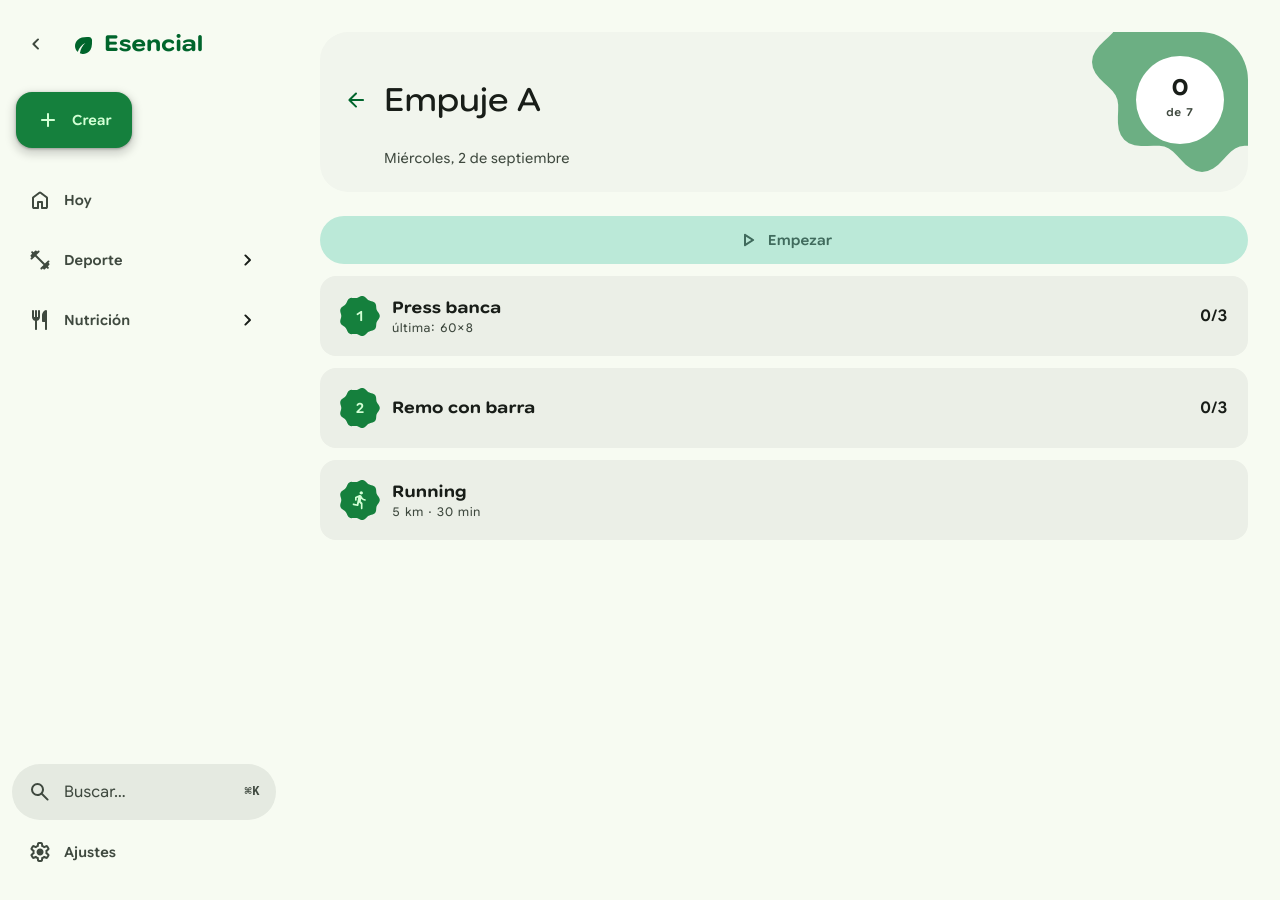
Test case: autoguardado del borrador › al cerrar la sesión se borra el borrador guardado
Click the button "Empezar". click: click(784, 240)
box: [320,216,1248,264]
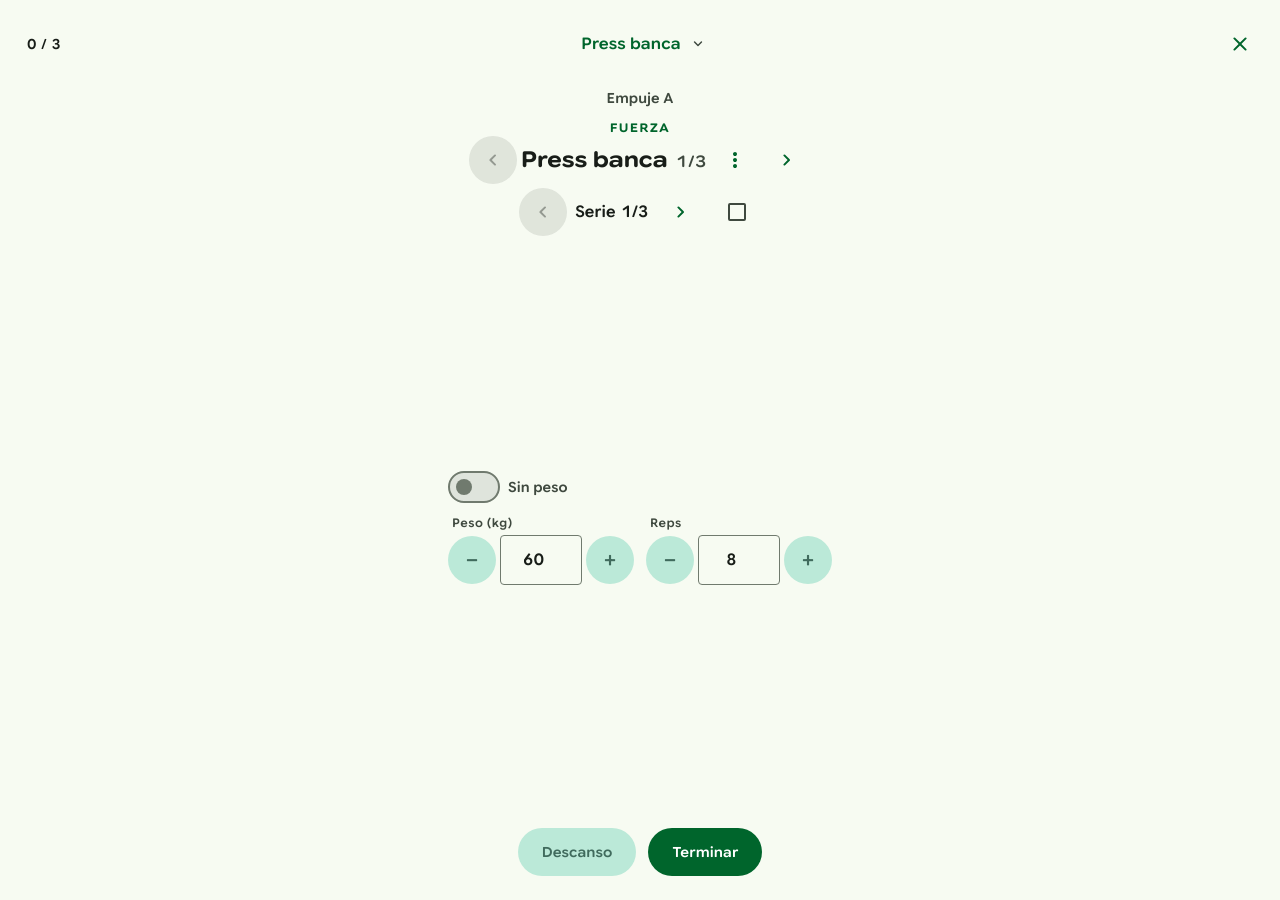
Click the checkbox named "Press banca serie 1". click: click(737, 212)
box: [728,203,746,221]
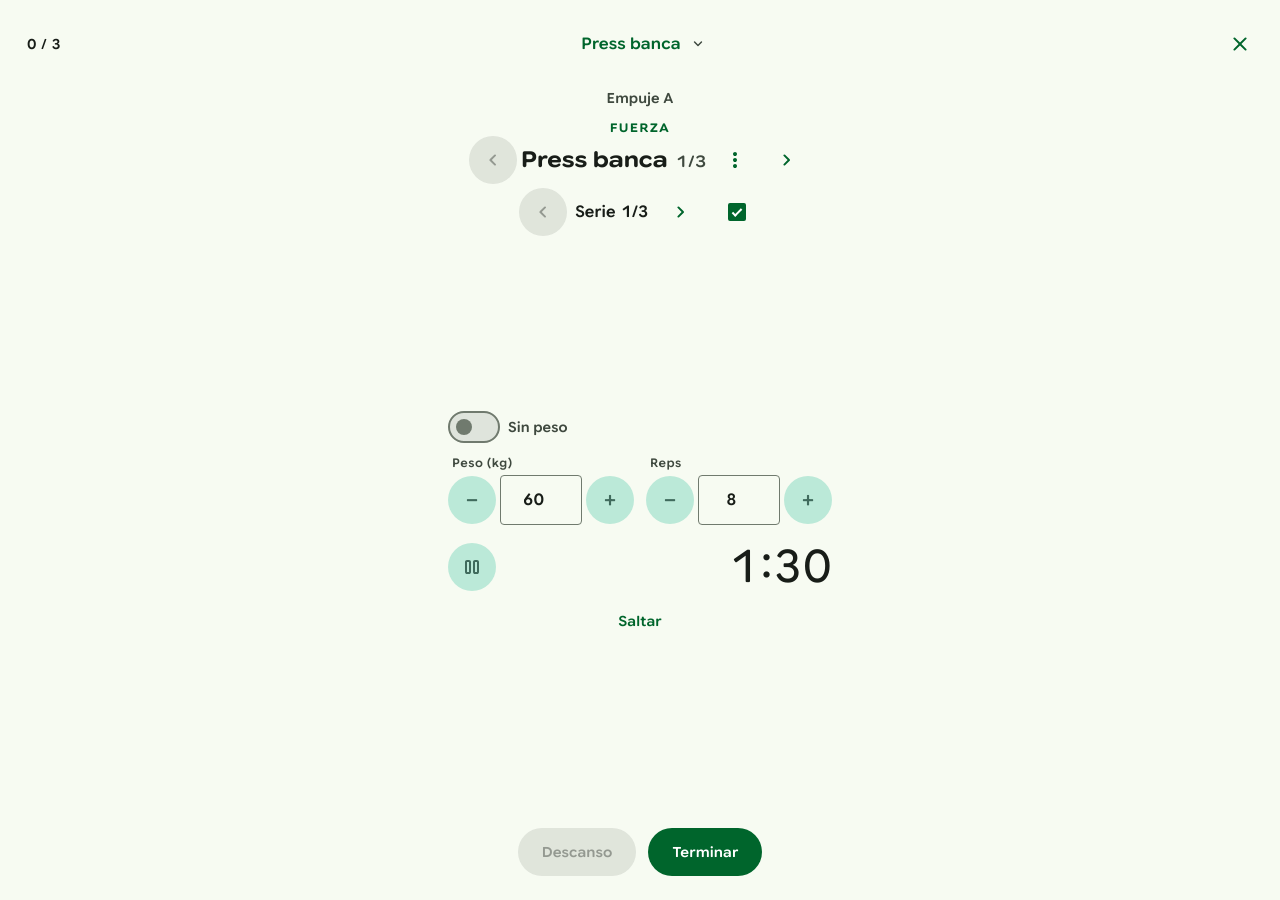
Click the button "Terminar". click: click(705, 852)
box: [648,828,762,876]
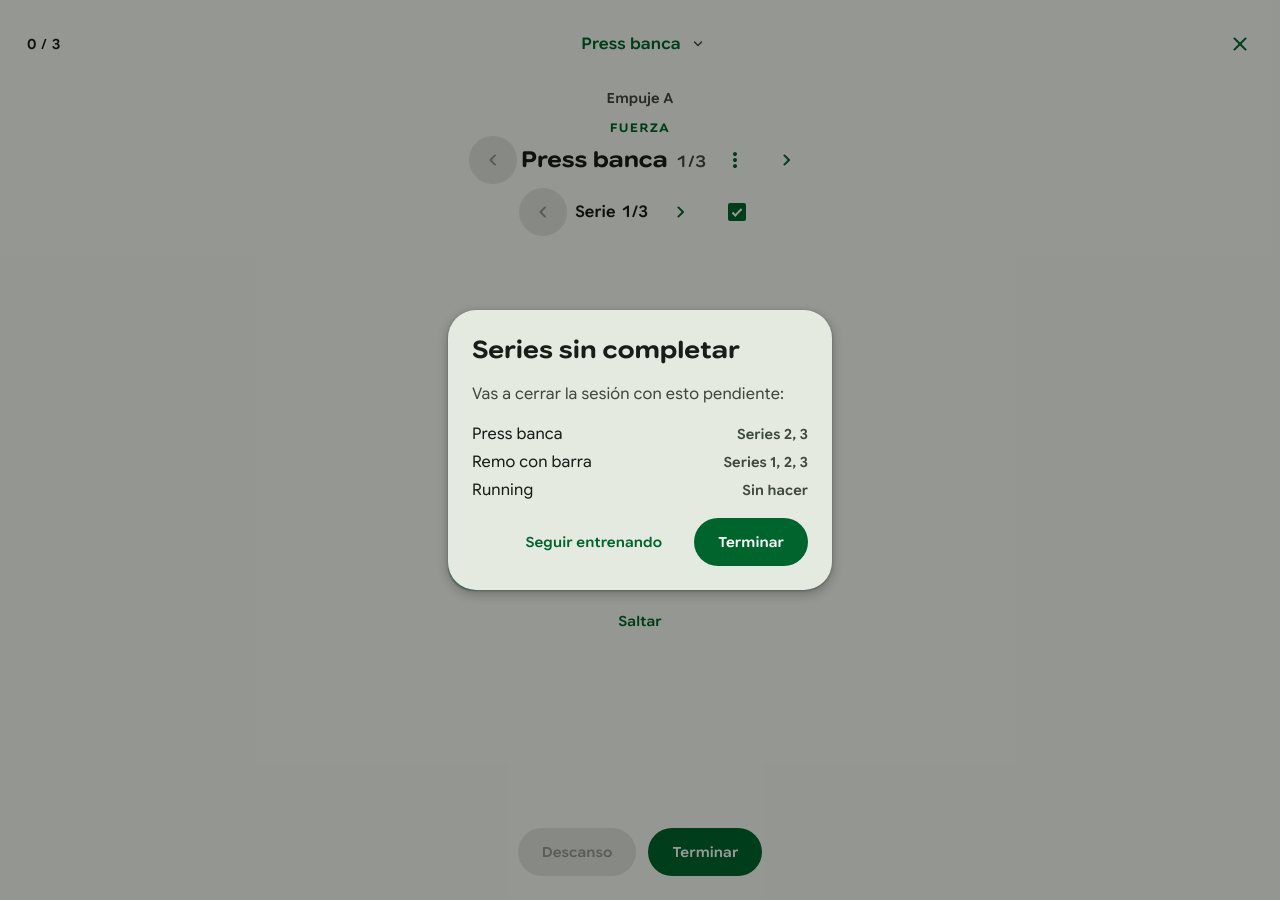
Click the button "Terminar". click: click(751, 542)
box: [694,518,808,566]
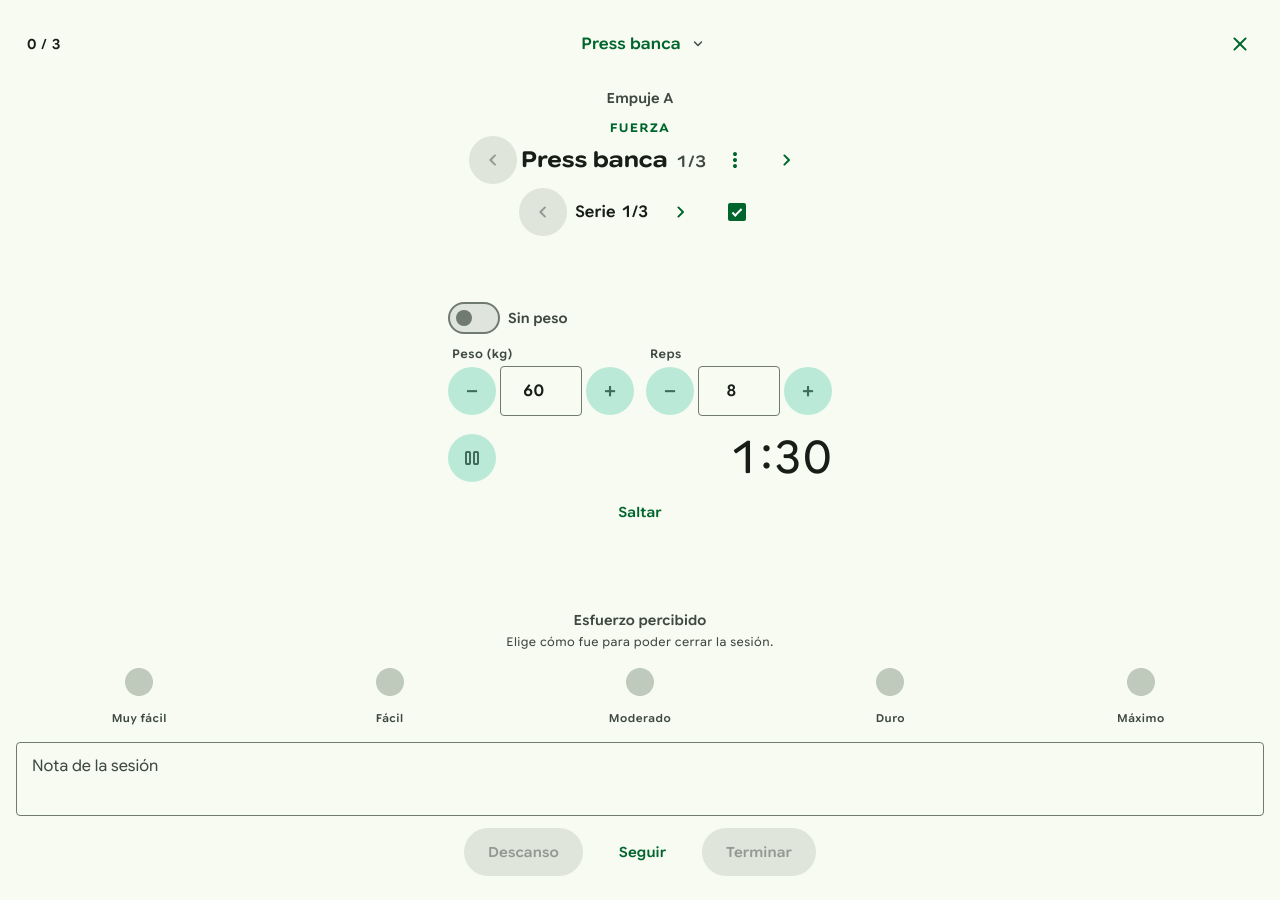
Click the radio button with aria-label "esfuerzo 3:". click: click(640, 696)
box: [609,668,671,725]
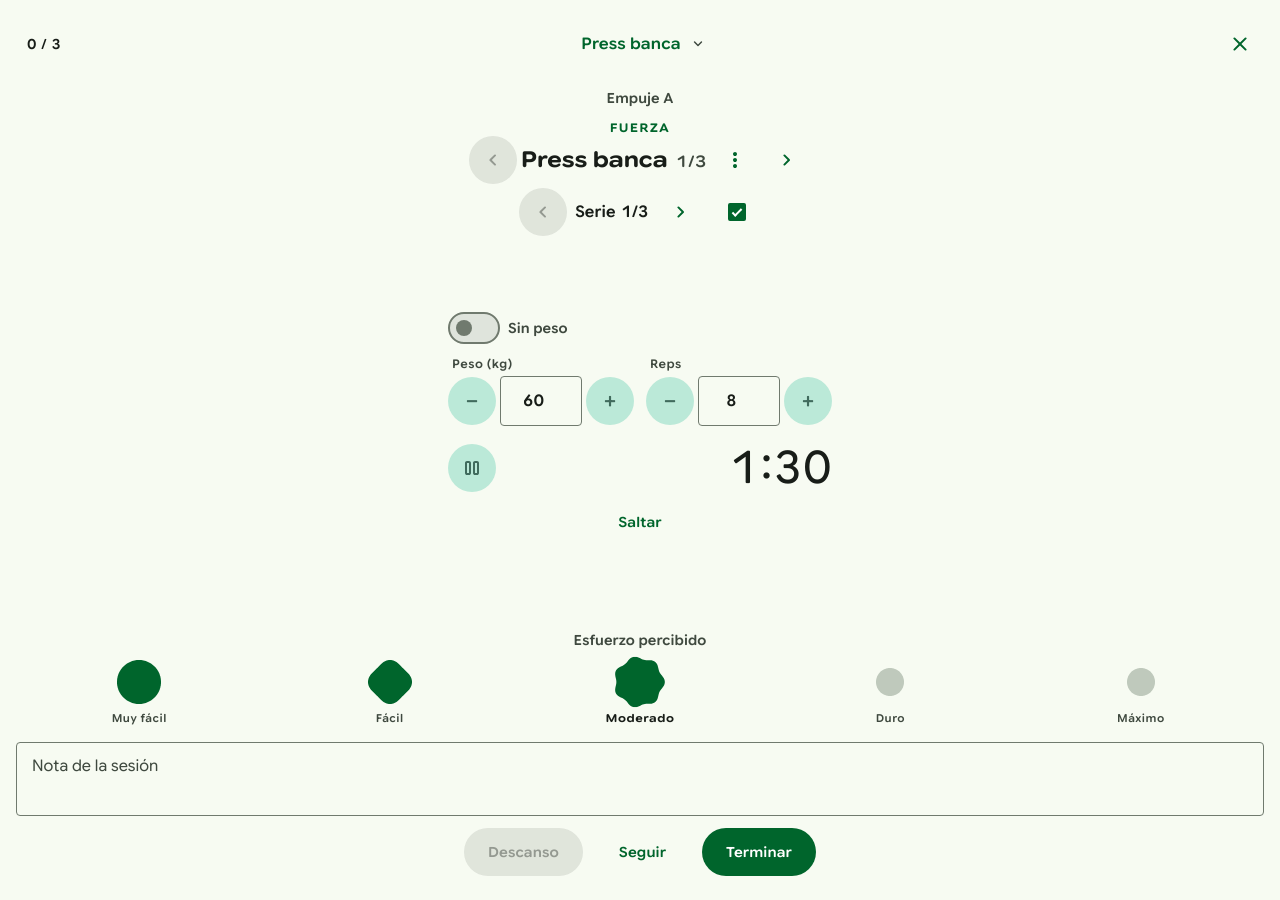
Click the button "Terminar". click: click(759, 852)
box: [702,828,816,876]
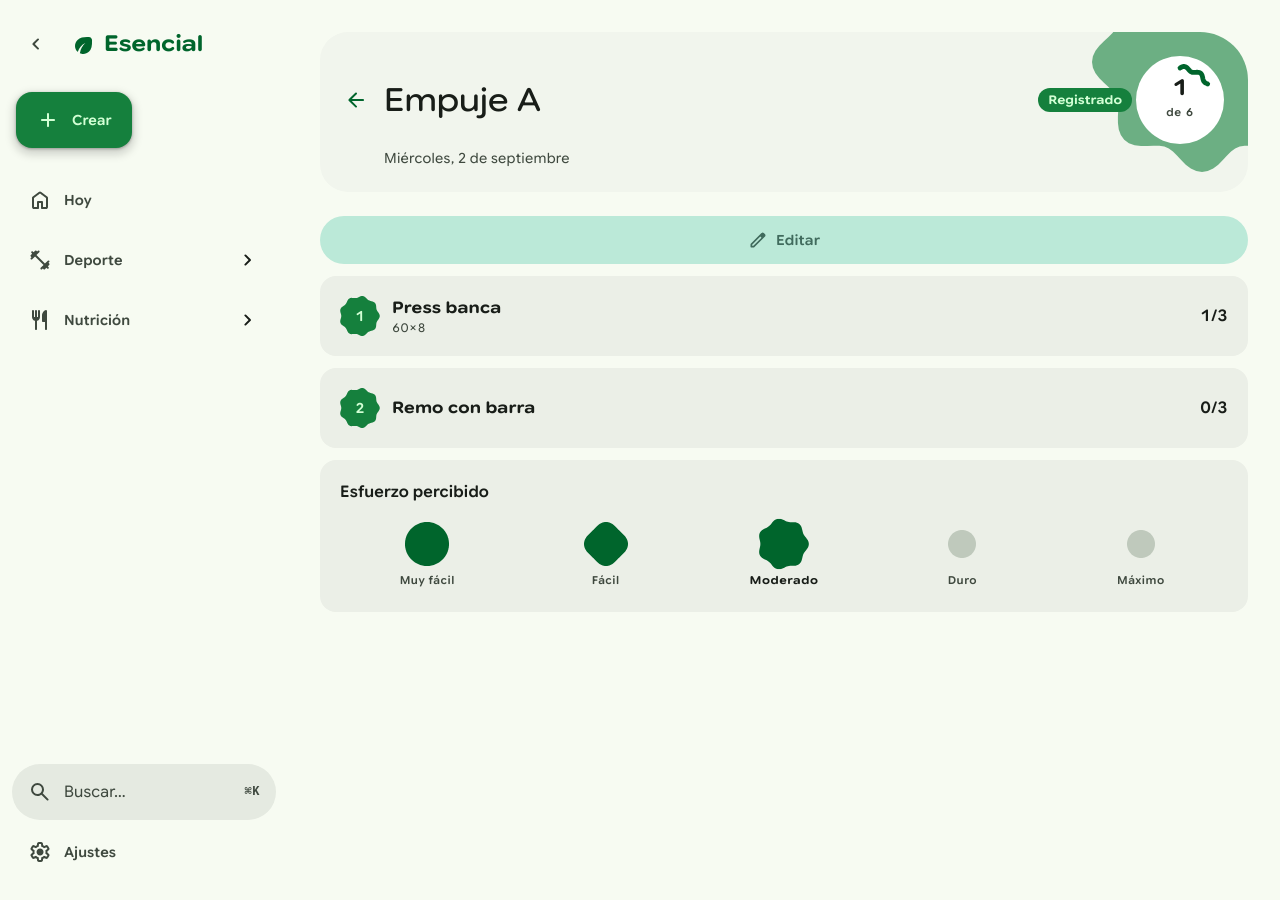
Expected: the button "Editar" is shown, [320,216,1248,264]
